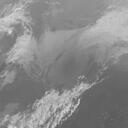cyclone: (41, 40, 101, 91)
